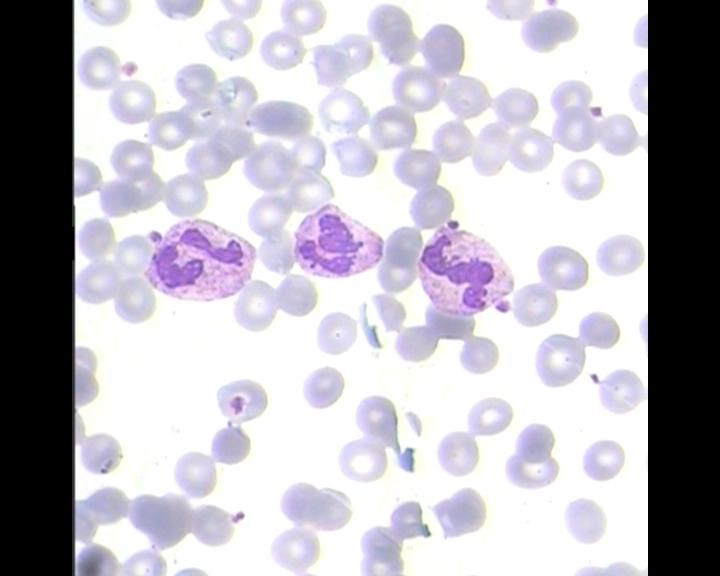neut: (417, 216, 520, 324), (145, 213, 266, 302), (287, 196, 385, 280)
